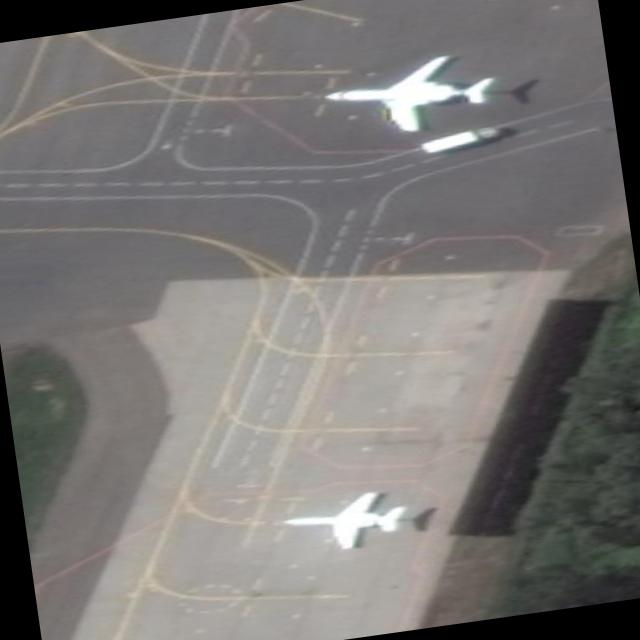plane: (317, 49, 512, 139), (272, 488, 411, 553)
small-vehicle: (415, 124, 505, 153)
